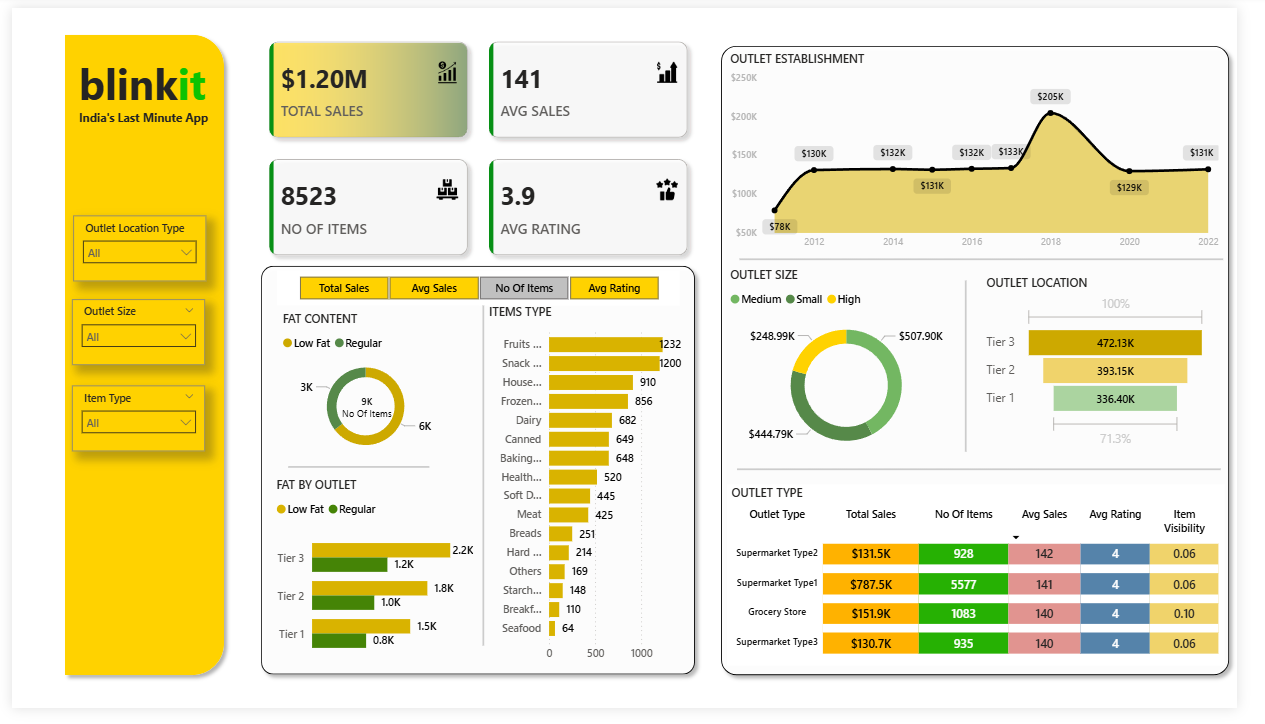

The page's visual inventory and layout, read from the dashboard file:
{"tool":"powerbi","page":{"name":"Page 1","canvas":[1400,800],"ordinal":0},"visuals":[{"type":"shape","box":[51.4,21.4,200,750],"z":0},{"type":"textbox","box":[71.4,48.6,167.1,90],"z":1000},{"type":"textbox","box":[71.4,111.4,167.1,32.9],"z":2000},{"type":"cardVisual","fields":{"Data":["BlinkIT Grocery Data.Total Sales","BlinkIT Grocery Data.avg sales","BlinkIT Grocery Data.No Of Items","BlinkIT Grocery Data.Avg Rating"]},"box":[276.7,21.1,513.3,278.9],"z":3000},{"type":"shape","box":[276.2,286.2,513.8,485],"z":4000},{"type":"donutChart","title":"FAT CONTENT","fields":{"Y":["BlinkIT Grocery Data.No Of Items"],"Category":["BlinkIT Grocery Data.Item Fat Content"]},"box":[303.8,346.2,200,173.8],"z":5000},{"type":"slicer","fields":{"Values":["Metrics.Metrics"]},"box":[303,300,460,40],"z":6000},{"type":"cardVisual","fields":{"Data":["BlinkIT Grocery Data.No Of Items"]},"box":[355.7,417.1,100,78.6],"z":7000},{"type":"clusteredBarChart","title":"FAT BY OUTLET","fields":{"Y":["BlinkIT Grocery Data.No Of Items"],"Category":["BlinkIT Grocery Data.Outlet Location Type"],"Series":["BlinkIT Grocery Data.Item Fat Content"]},"box":[297.5,535,235,220],"z":8000},{"type":"shape","box":[316.2,515,161.2,17.5],"z":9000},{"type":"shape","box":[523.8,340,28.8,388.8],"z":10000},{"type":"barChart","title":"ITEMS TYPE","fields":{"Y":["BlinkIT Grocery Data.No Of Items"],"Category":["BlinkIT Grocery Data.Item Type"]},"box":[540,337.1,242.9,418.6],"z":11000},{"type":"shape","box":[801.4,34.3,598.6,737.1],"z":12000},{"type":"lineChart","title":"OUTLET ESTABLISHMENT","fields":{"Y":["BlinkIT Grocery Data.Total Sales"],"Category":["BlinkIT Grocery Data.Outlet Establishment Year"]},"box":[815.7,48.6,568.6,235.7],"z":13000},{"type":"shape","box":[831.4,278.6,552.9,17.1],"z":14000},{"type":"donutChart","title":"OUTLET SIZE","fields":{"Y":["BlinkIT Grocery Data.Total Sales"],"Category":["BlinkIT Grocery Data.Outlet Size"]},"box":[815.7,295.7,275.7,225.7],"z":15000},{"type":"shape","box":[1075.7,311.4,28.6,195.7],"z":16000},{"type":"funnel","title":"OUTLET LOCATION","fields":{"Y":["Sum(BlinkIT Grocery Data.Sales)"],"Category":["BlinkIT Grocery Data.Outlet Location Type"]},"box":[1108.6,304.3,261.4,202.9],"z":17000},{"type":"shape","box":[828.6,518.6,552.9,17.1],"z":18000},{"type":"pivotTable","title":"OUTLET TYPE","fields":{"Rows":["BlinkIT Grocery Data.Outlet Type"],"Values":["BlinkIT Grocery Data.Total Sales","BlinkIT Grocery Data.No Of Items","BlinkIT Grocery Data.Avg Sales","BlinkIT Grocery Data.Avg Rating","Avg(BlinkIT Grocery Data.Item Visibility)"]},"box":[817.1,544.3,568.6,207.1],"z":19000},{"type":"slicer","fields":{"Values":["BlinkIT Grocery Data.Outlet Location Type"]},"box":[70,236.7,151.7,75],"z":20000},{"type":"slicer","fields":{"Values":["BlinkIT Grocery Data.Outlet Size"]},"box":[68.9,333.3,152.2,75.6],"z":21000},{"type":"slicer","fields":{"Values":["BlinkIT Grocery Data.Item Type"]},"box":[68.9,431.1,152.2,75.6],"z":22000}]}

Visuals, with their boxes in screenshot pixels (x1, y1, x2, y2), scaled from the page's 1400x800 canvas onto the 1265x724 screenshot:
shape: (left=46, top=19, right=227, bottom=698)
textbox: (left=65, top=44, right=216, bottom=125)
textbox: (left=65, top=101, right=216, bottom=131)
cardVisual - BlinkIT Grocery Data.Total Sales x BlinkIT Grocery Data.avg sales: (left=250, top=19, right=714, bottom=272)
shape: (left=250, top=259, right=714, bottom=698)
"FAT CONTENT" donutChart: (left=275, top=313, right=455, bottom=471)
slicer - Metrics.Metrics: (left=274, top=272, right=689, bottom=308)
cardVisual - BlinkIT Grocery Data.No Of Items: (left=321, top=377, right=412, bottom=449)
"FAT BY OUTLET" clusteredBarChart: (left=269, top=484, right=481, bottom=683)
shape: (left=286, top=466, right=431, bottom=482)
shape: (left=473, top=308, right=499, bottom=660)
"ITEMS TYPE" barChart: (left=488, top=305, right=707, bottom=684)
shape: (left=724, top=31, right=1264, bottom=698)
"OUTLET ESTABLISHMENT" lineChart: (left=737, top=44, right=1251, bottom=257)
shape: (left=751, top=252, right=1251, bottom=268)
"OUTLET SIZE" donutChart: (left=737, top=268, right=986, bottom=472)
shape: (left=972, top=282, right=998, bottom=459)
"OUTLET LOCATION" funnel: (left=1002, top=275, right=1238, bottom=459)
shape: (left=749, top=469, right=1248, bottom=485)
"OUTLET TYPE" pivotTable: (left=738, top=493, right=1252, bottom=680)
slicer - BlinkIT Grocery Data.Outlet Location Type: (left=63, top=214, right=200, bottom=282)
slicer - BlinkIT Grocery Data.Outlet Size: (left=62, top=302, right=200, bottom=370)
slicer - BlinkIT Grocery Data.Item Type: (left=62, top=390, right=200, bottom=459)
